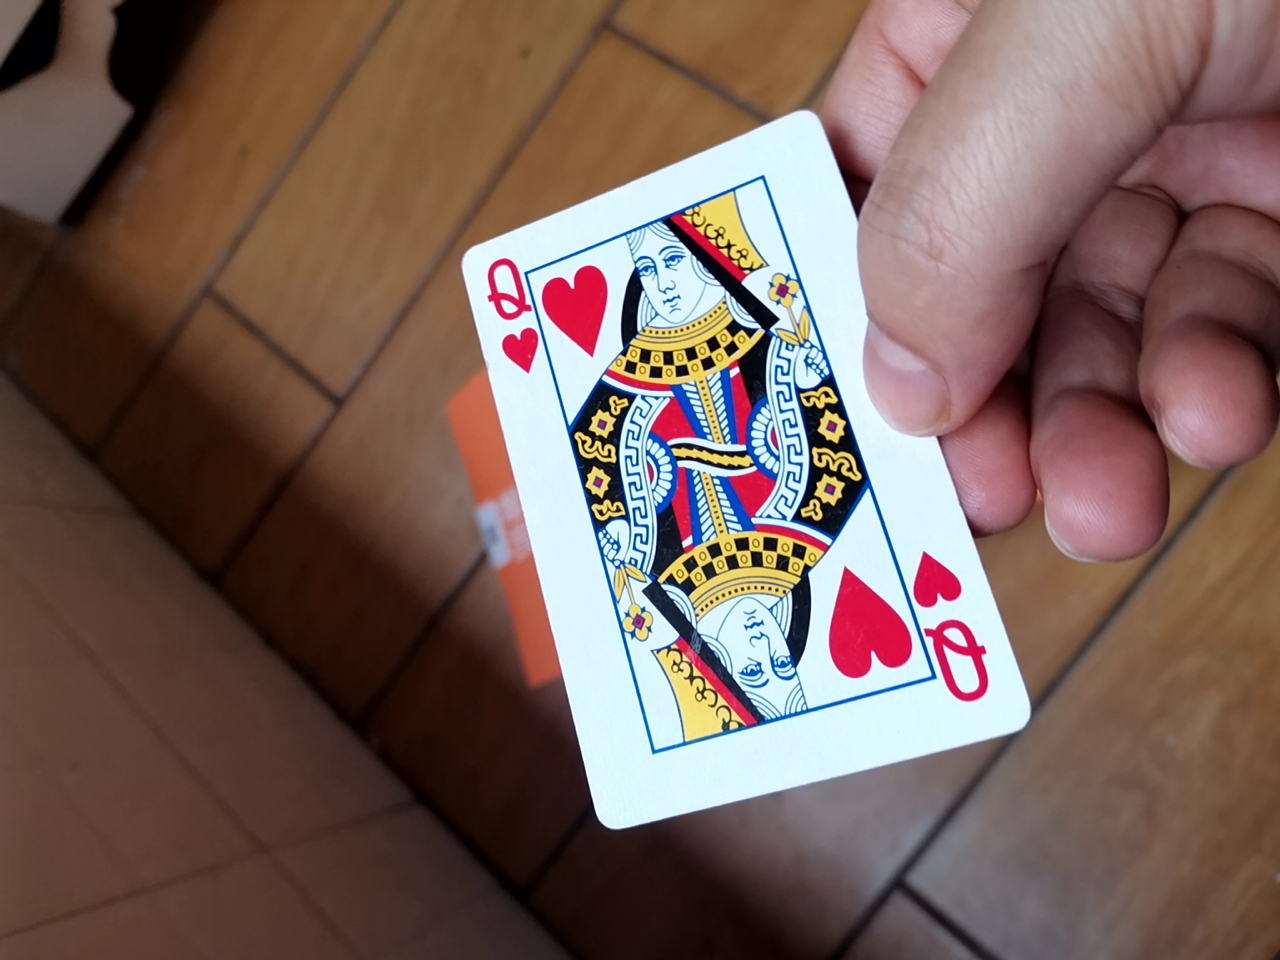hx q: (437, 115, 1025, 844)
